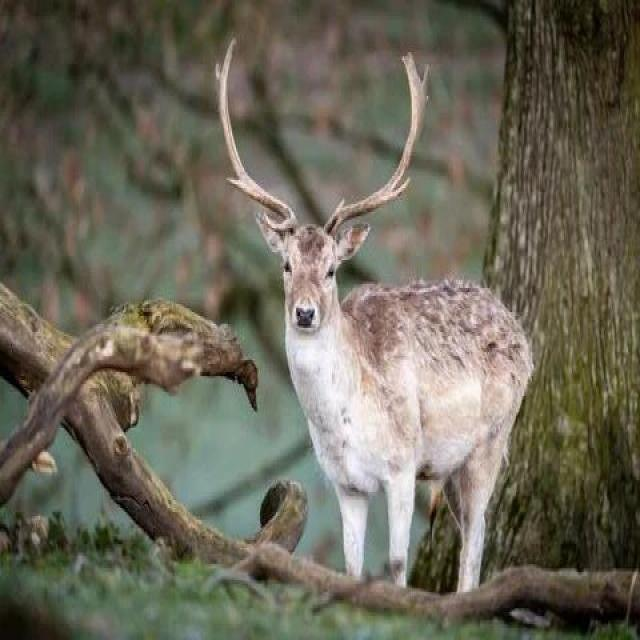deer: (224, 75, 576, 608)
